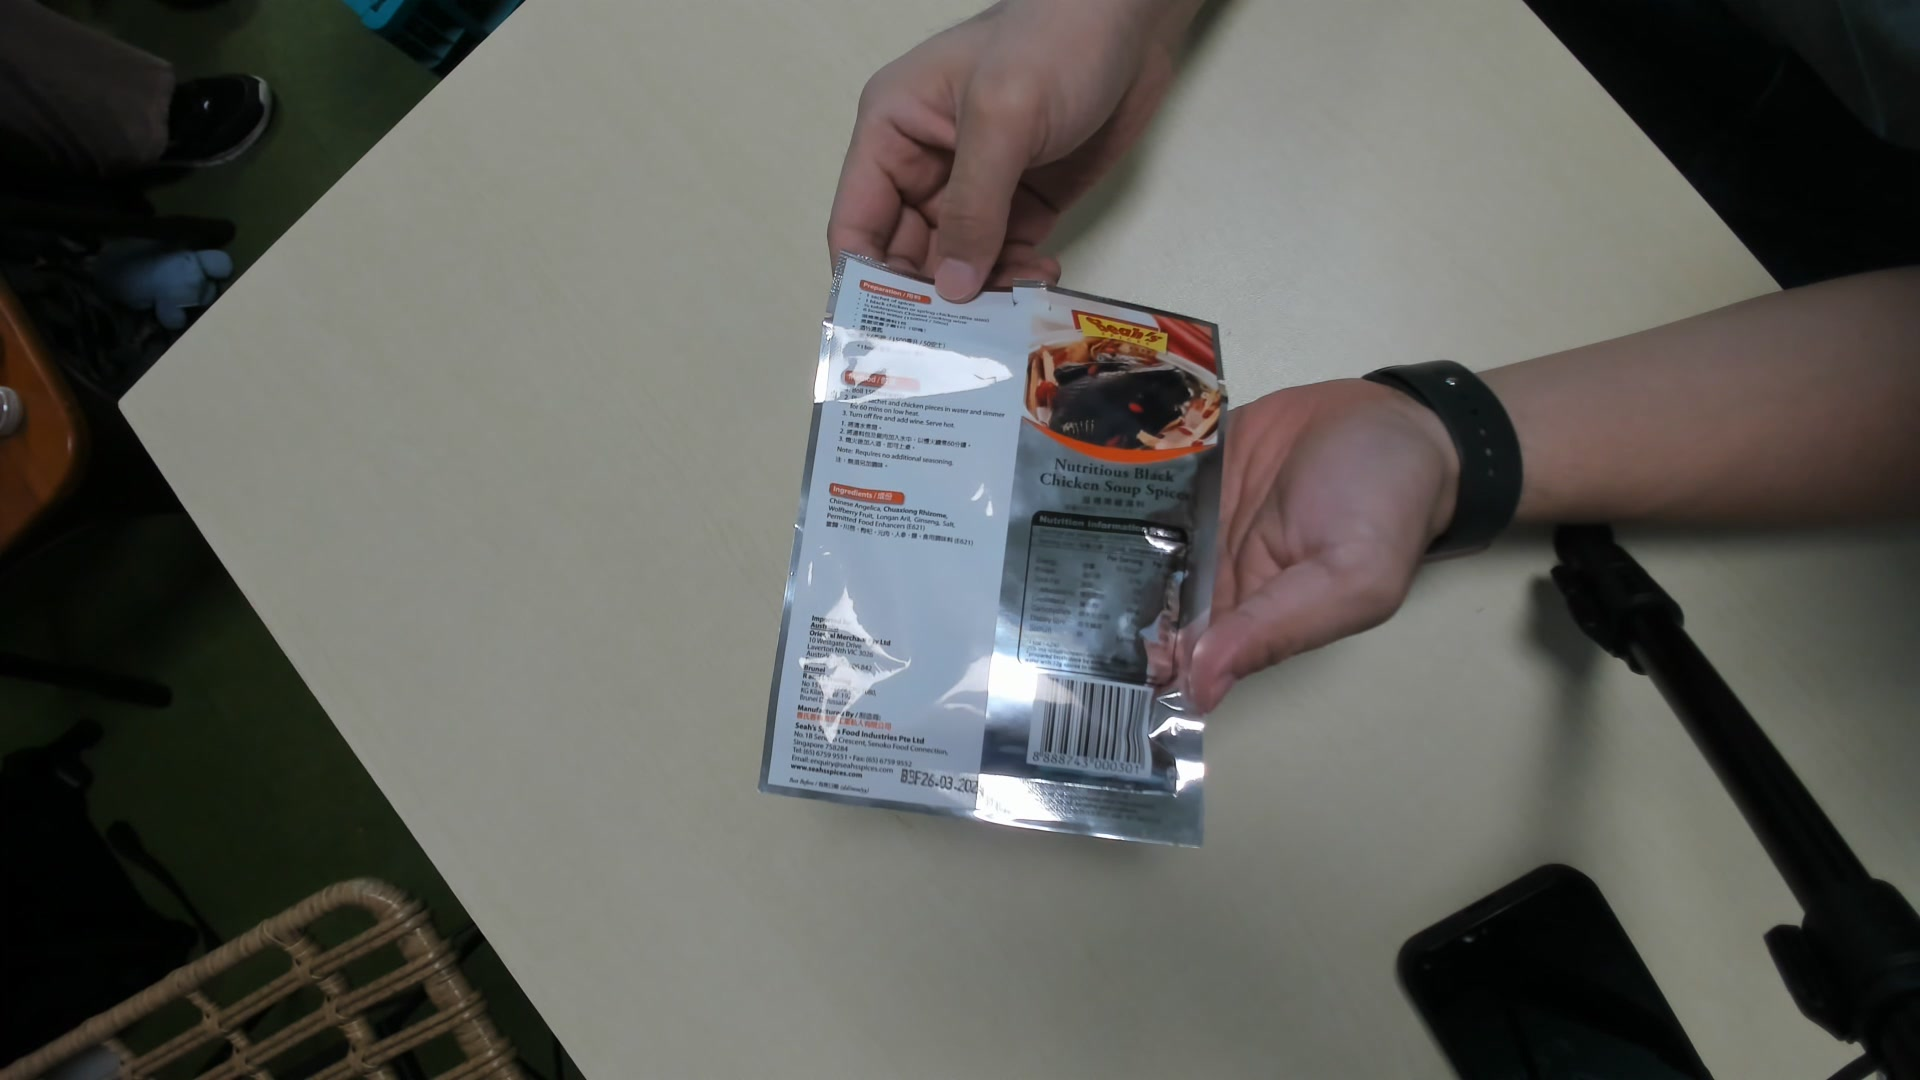OtherSauceDressing_0-99g_NonHalal_NonHealthy: (758, 251, 1228, 858)
